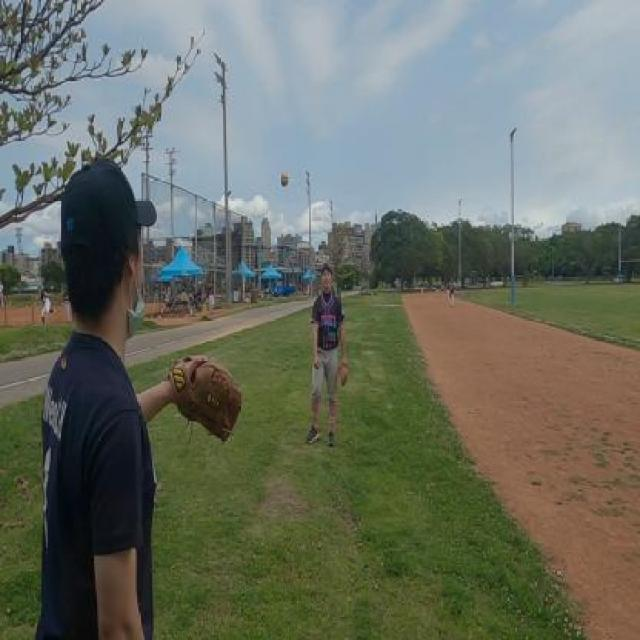baseball: (280, 170, 288, 188)
